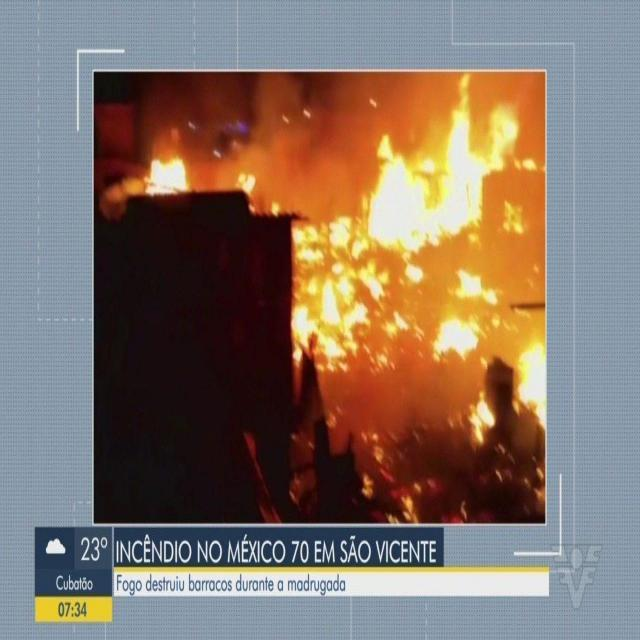Fire: (288, 83, 542, 364), (514, 338, 546, 429), (144, 156, 190, 194), (468, 398, 496, 441), (234, 164, 258, 196)
